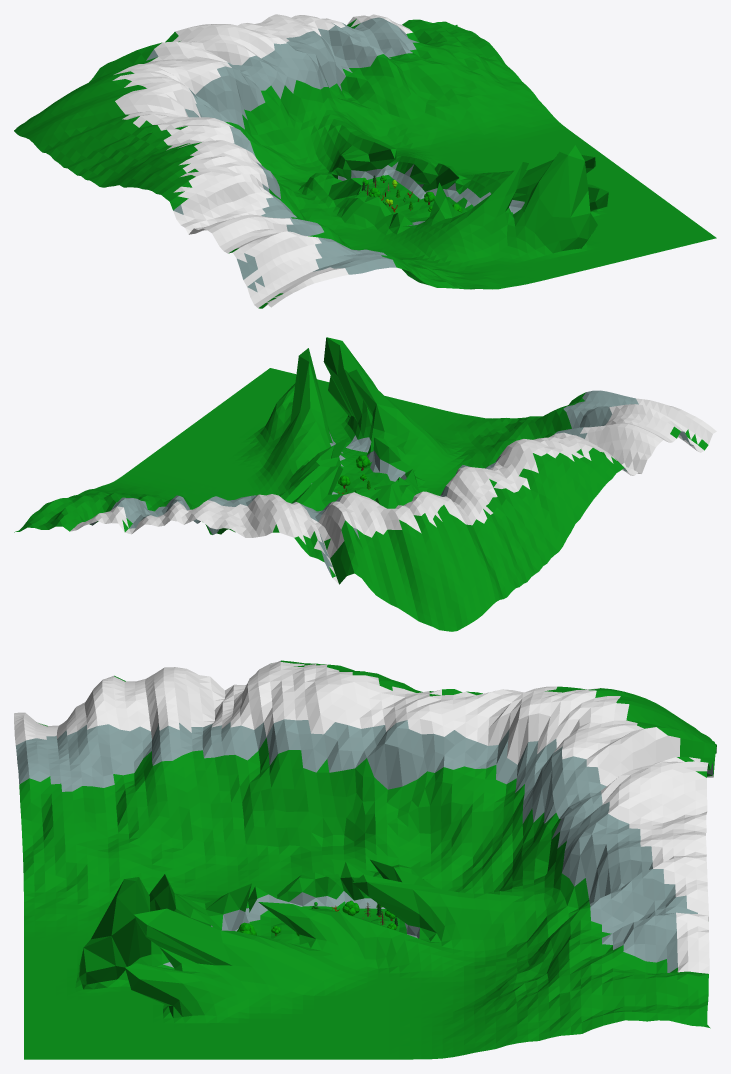
File: FirstAssetSet.dae
3 renders of one model, top to bottom at view 1: azimuth 30°, elevation 25°; view 2: azimuth 150°, elevation 25°; view 3: azimuth 270°, elevation 25°, orthographic. The views are drawn at different scales.
Parts seen in each view (by area): view 1: Plane; view 2: Plane; view 3: Plane.
Part boxes in pixels (x1,y1,x2,y2): Plane: (14, 14, 716, 308); Plane: (14, 337, 716, 631); Plane: (14, 660, 716, 1059).
Bounding box in the file's own units: 221 × 222 × 46.94.
